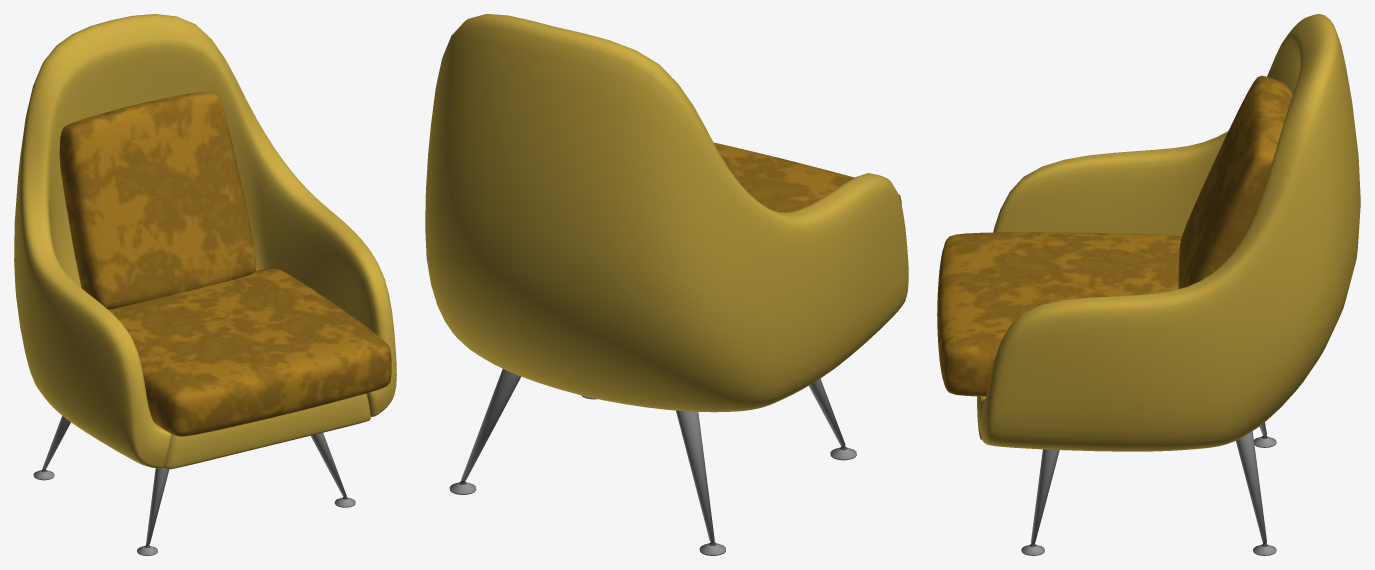
Rendered from sweethome3d-scopia-armchair-68.glb.
The picture shows the model from 3 angles, left to right: view 1: azimuth 30°, elevation 25°; view 2: azimuth 150°, elevation 25°; view 3: azimuth 270°, elevation 25°; orthographic projection. The views are drawn at different scales.
Parts seen in each view (by area): view 1: butaque.002_Cube.218, butaque_potes.002_Tube.012; view 2: butaque.002_Cube.218, butaque_potes.002_Tube.012; view 3: butaque.002_Cube.218, butaque_potes.002_Tube.012.
Boxes of the visible parts, <box> form: butaque.002_Cube.218: <box>14,14,396,469</box>; butaque_potes.002_Tube.012: <box>33,415,355,555</box>; butaque.002_Cube.218: <box>425,14,908,412</box>; butaque_potes.002_Tube.012: <box>449,369,856,555</box>; butaque.002_Cube.218: <box>937,14,1360,451</box>; butaque_potes.002_Tube.012: <box>1021,422,1276,555</box>.
Bounding box in the file's own units: 72.79 × 97.03 × 81.18.
Materials: 4 (2 with a texture image).
